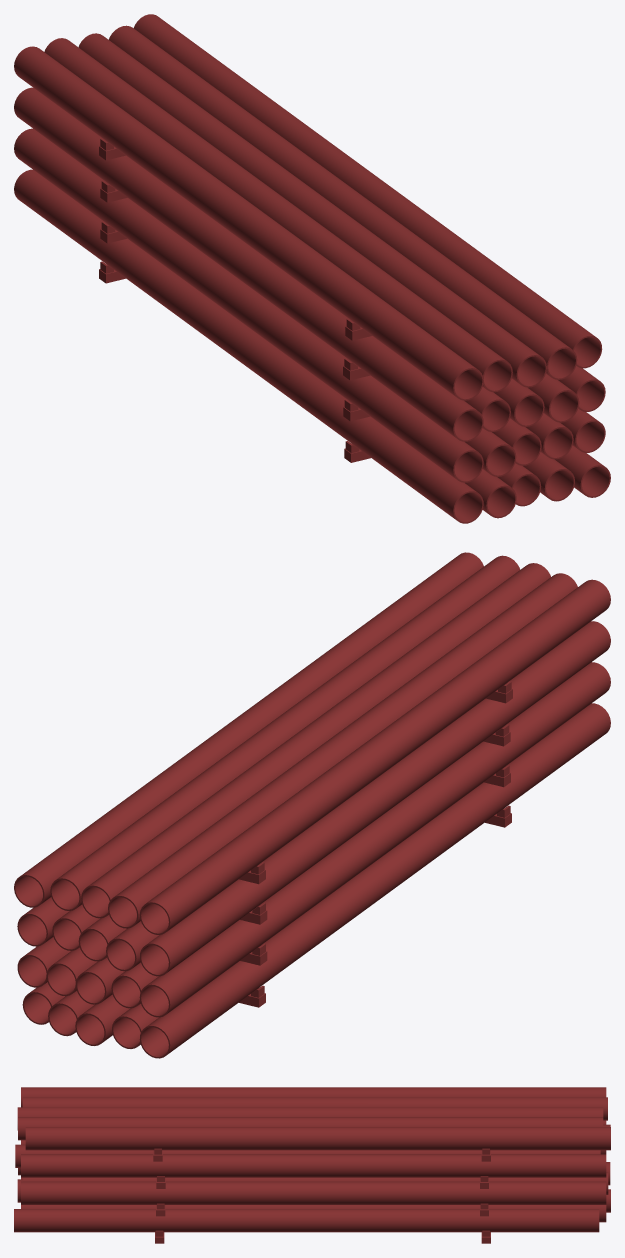
The model's file is SM_SteelTube01Pack02.fbx.
The picture shows the model from 3 angles, top to bottom: view 1: azimuth 30°, elevation 25°; view 2: azimuth 150°, elevation 25°; view 3: azimuth 270°, elevation 25°; orthographic projection. The views are drawn at different scales.
Parts seen in each view (by area): view 1: SteelTube01Pack02; view 2: SteelTube01Pack02; view 3: SteelTube01Pack02.
Boxes of the visible parts, <box> form: SteelTube01Pack02: <box>14,14,610,523</box>; SteelTube01Pack02: <box>14,552,610,1058</box>; SteelTube01Pack02: <box>14,1087,610,1243</box>.
Bounding box in the file's own units: 62.34 × 61.79 × 306.
